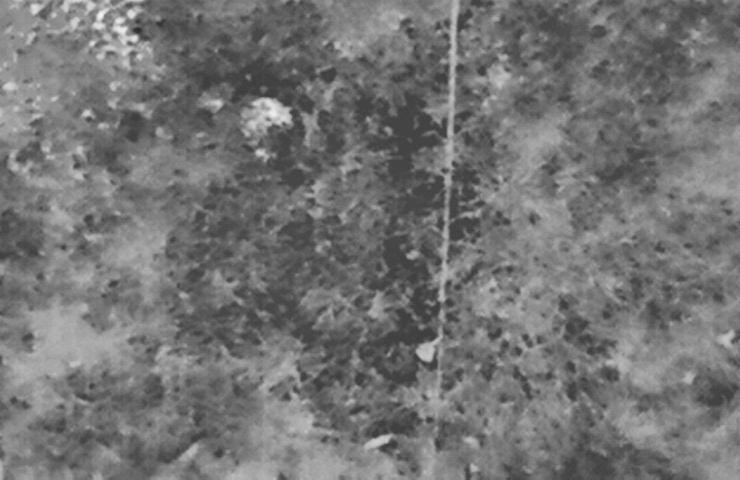landmines: (238, 93, 297, 160)
